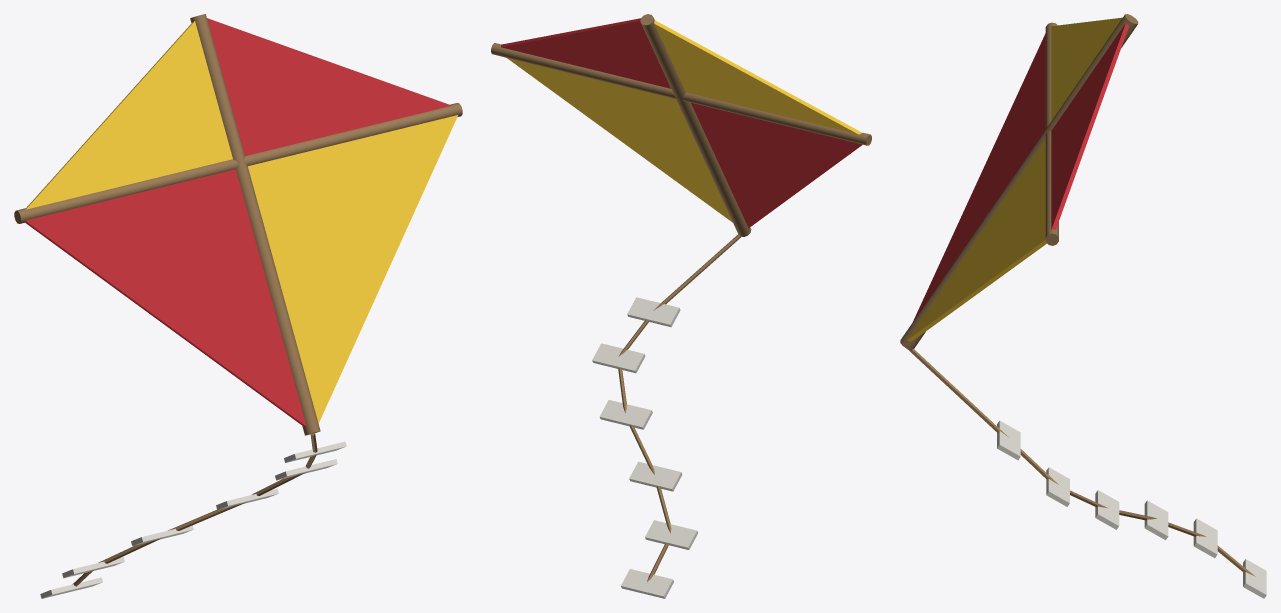
Rendered from wing_kite.fbx.
The picture shows the model from 3 angles, left to right: view 1: azimuth 30°, elevation 25°; view 2: azimuth 150°, elevation 25°; view 3: azimuth 270°, elevation 25°; orthographic projection. The views are drawn at different scales.
Parts seen in each view (by area): view 1: red_1, yellow_1, wood_1, paper_1; view 2: yellow_1, red_1, wood_1, paper_1; view 3: red_1, yellow_1, wood_1, paper_1.
Part boxes in pixels (x1,y1,x2,y2): red_1: [25, 18, 451, 426]; yellow_1: [26, 21, 458, 423]; wood_1: [14, 14, 462, 586]; paper_1: [40, 441, 346, 598]; yellow_1: [506, 20, 862, 222]; red_1: [501, 18, 862, 227]; wood_1: [491, 14, 871, 581]; paper_1: [592, 297, 697, 598]; red_1: [913, 23, 1128, 321]; yellow_1: [907, 17, 1122, 341]; wood_1: [900, 14, 1255, 576]; paper_1: [997, 420, 1266, 598].
Size of the model in its own units: 0.0738 by 0.0981 by 0.0542.
